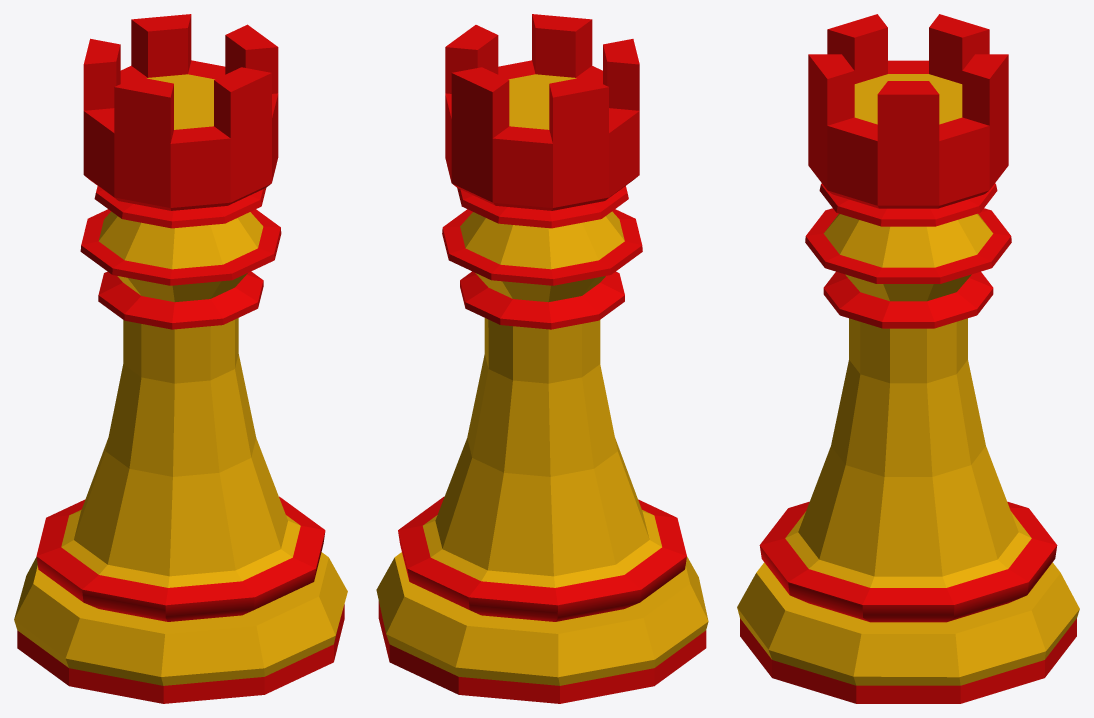
Rendered from Rook.fbx.
The picture shows the model from 3 angles, left to right: view 1: azimuth 30°, elevation 25°; view 2: azimuth 150°, elevation 25°; view 3: azimuth 270°, elevation 25°; orthographic projection.
Parts seen in each view (by area): view 1: RookLow; view 2: RookLow; view 3: RookLow.
Part boxes in pixels (<box>): RookLow: <box>14,14,347,703</box>; RookLow: <box>376,14,708,703</box>; RookLow: <box>737,14,1079,703</box>.
Size of the model in its own units: 0.8245 by 1.62 by 0.8635.
